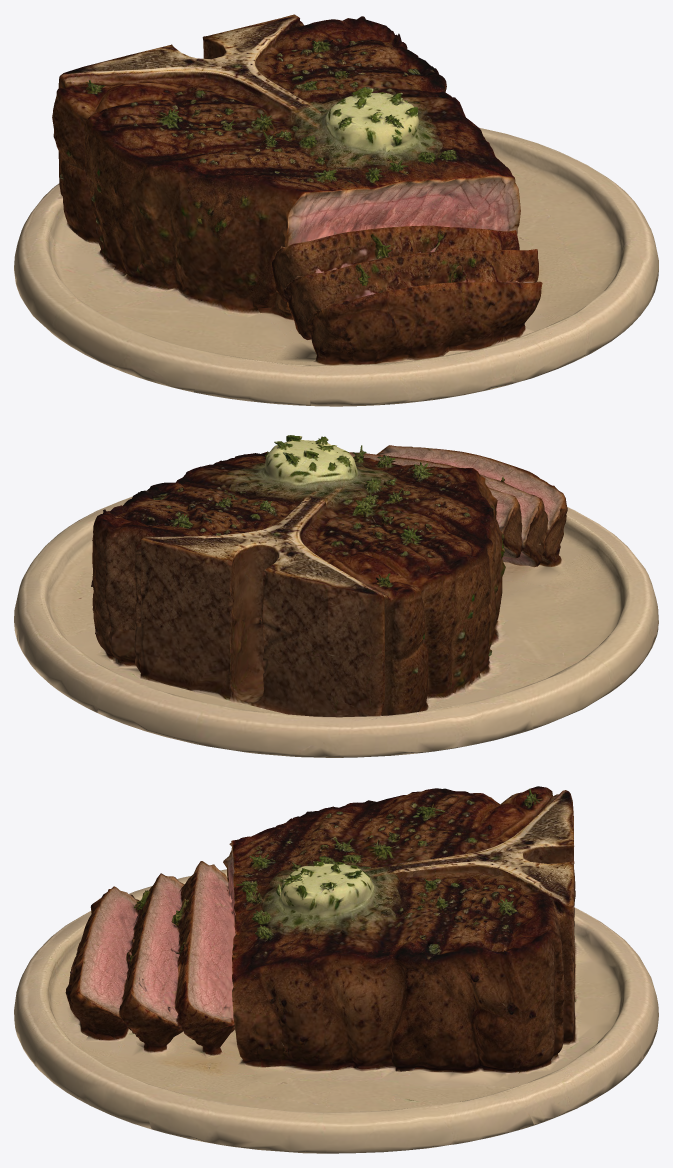
The model's file is steak.glb.
3 renders of one model, top to bottom at view 1: azimuth 30°, elevation 25°; view 2: azimuth 150°, elevation 25°; view 3: azimuth 270°, elevation 25°, orthographic.
Parts seen in each view (by area): view 1: mesh_node; view 2: mesh_node; view 3: mesh_node.
Part boxes in pixels (bbox=[...]): mesh_node: bbox=[14, 14, 658, 406]; mesh_node: bbox=[14, 435, 658, 757]; mesh_node: bbox=[14, 786, 658, 1153].
Size of the model in its own units: 1.9 by 0.5418 by 1.9.
1 material, 1 textured.
